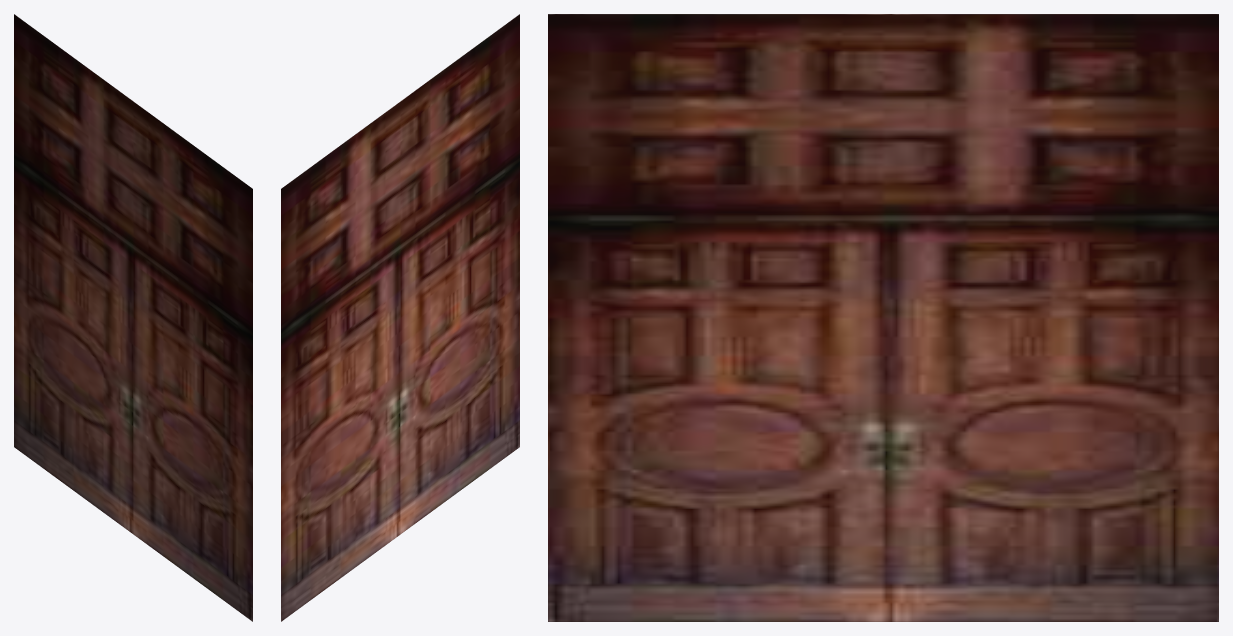
The model's file is Door.glb.
3 views of the same model, side by side, from view 1: azimuth 30°, elevation 25°; view 2: azimuth 150°, elevation 25°; view 3: azimuth 270°, elevation 25° (orthographic). The views are drawn at different scales.
Visible parts, largest first — view 1: Door, Top; view 2: Door, Top; view 3: Door, Top.
Boxes of the visible parts, x1,y1,x2,y2 form: Door: (14,159,252,621); Top: (14,14,252,333); Door: (281,159,519,621); Top: (281,14,519,333); Door: (548,218,1218,621); Top: (548,14,1218,218).
Bounding box in the file's own units: 1.69e-07 × 2 × 2.
1 material, 1 textured.
